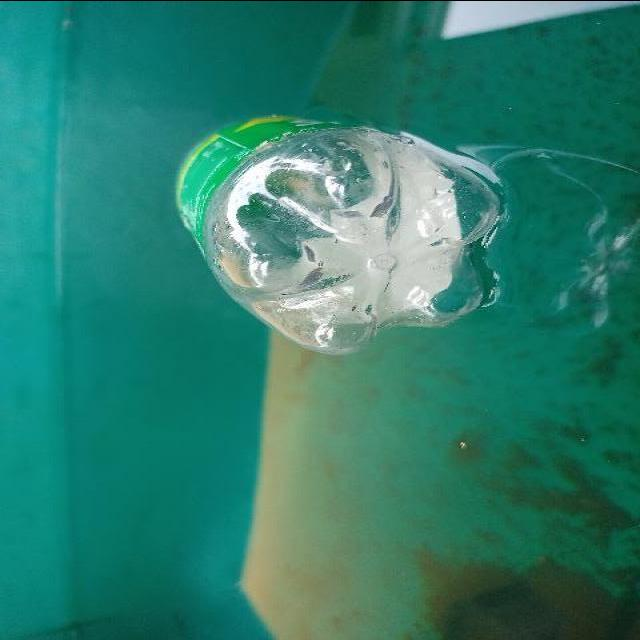Bottle: (169, 101, 512, 373)
